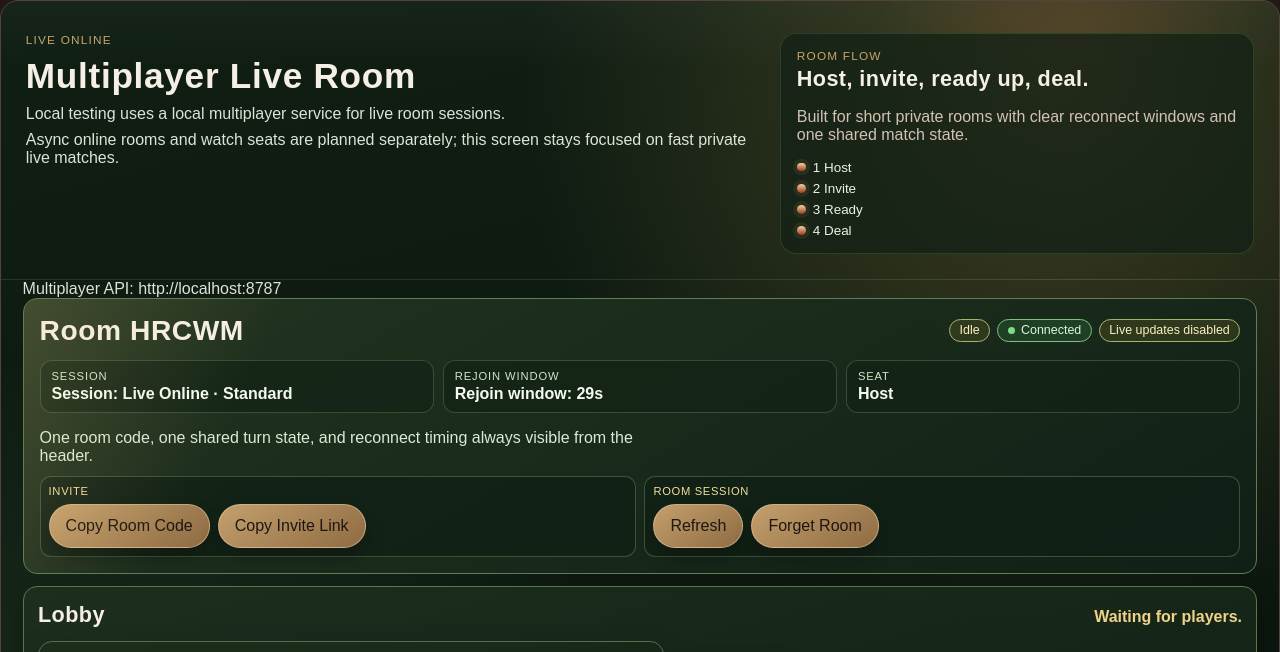
Test case: MultiplayerScreen › falls back to room code notice when LAN invite origin resolution fails
Click the button "Copy Invite Link": (292, 526) [218,504,366,548]
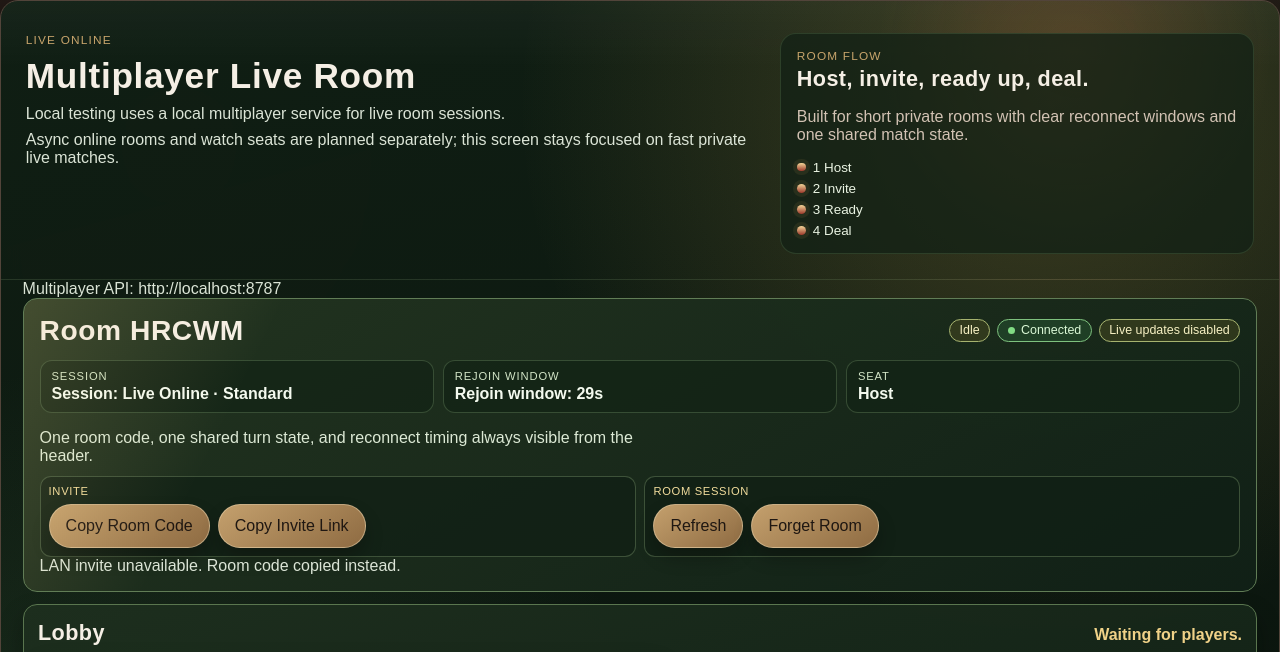
Now the text "LAN invite unavailable. Room code copied instead." is shown, box [40,557,401,574]
